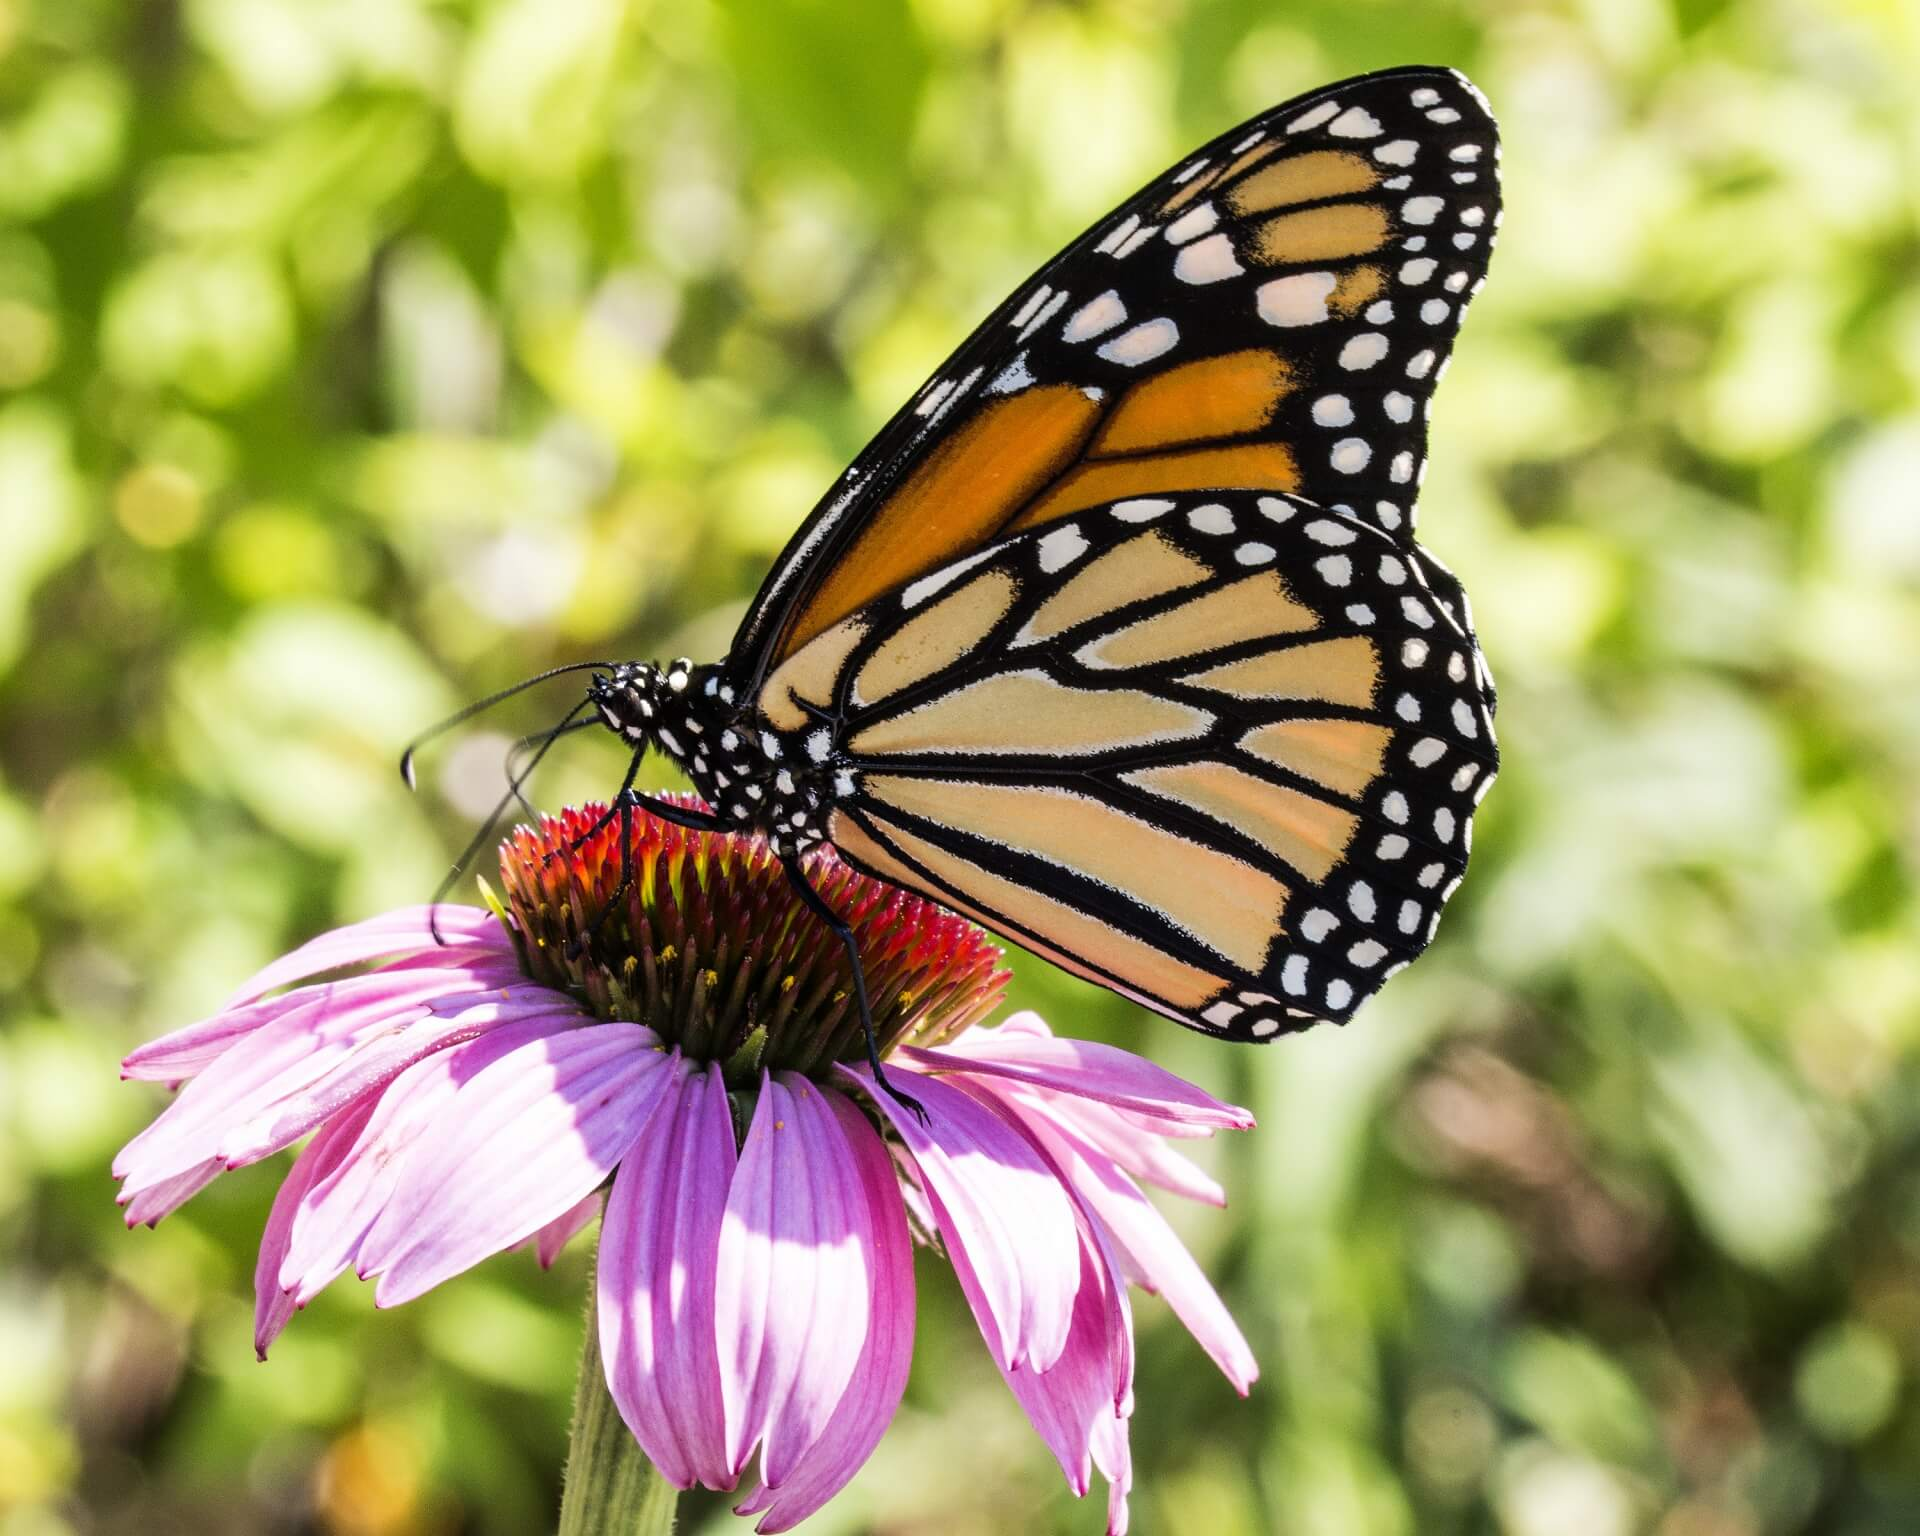Butterfly: (370, 75, 1531, 1028)
